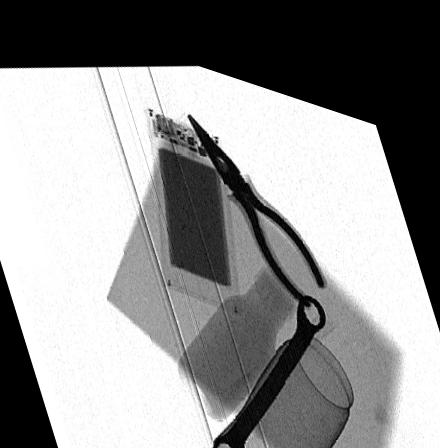Pliers: (186, 102, 326, 288)
Powerbank: (145, 98, 241, 299)
Wrench: (212, 273, 325, 448)
